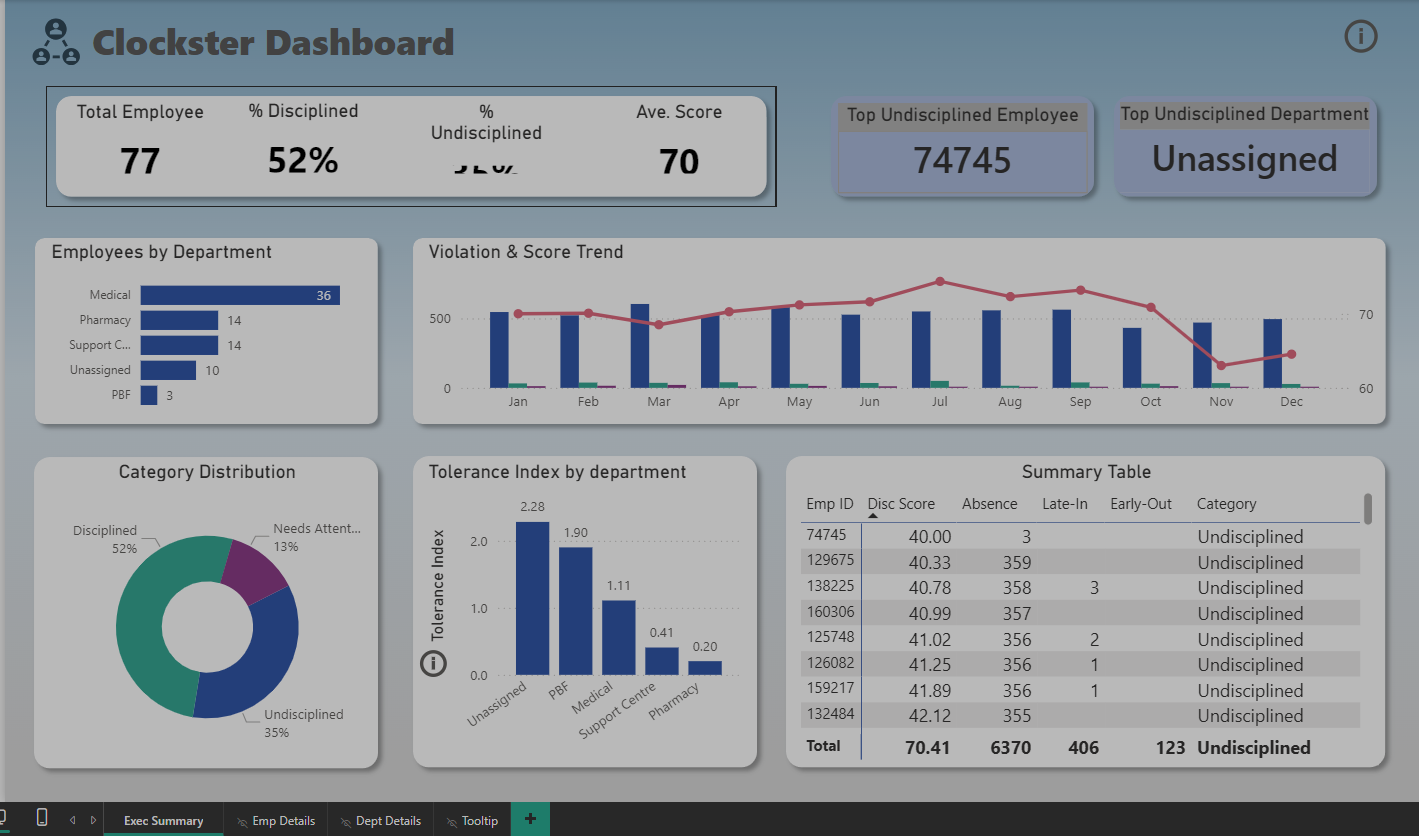

The page's visual inventory and layout, read from the dashboard file:
{"tool":"powerbi","page":{"name":"Exec Summary","canvas":[1280,720],"ordinal":0},"visuals":[{"type":"group","id":"g1","title":"Undisc Emp","box":[732.3,76.9,254,108.2],"z":0},{"type":"shape","box":[732.3,76.9,254,108.2],"z":0,"group":"g1"},{"type":"shape","box":[986.3,76.9,254,108.2],"z":0,"group":"g2"},{"type":"shape","title":"Shape KPI","box":[36.5,77.6,656,108.4],"z":0,"group":"g8"},{"type":"shape","title":"Shape Emp by Dept","box":[357.3,204.9,891.2,185],"z":0,"group":"g5"},{"type":"shape","title":"Shape Emp by Dept","box":[18,205,325.8,185],"z":0,"group":"g3"},{"type":"shape","title":"Shape Emp by Dept","box":[357.3,400.4,326.8,297.4],"z":0,"group":"g6"},{"type":"shape","title":"Shape Emp by Dept","box":[692.5,400.4,555.9,297.4],"z":0,"group":"g7"},{"type":"shape","title":"Shape Emp by Dept","box":[17,401,326.8,297.4],"z":0,"group":"g4"},{"type":"group","id":"g2","title":"Undisc Dept","box":[986.3,76.9,254,108.2],"z":1000},{"type":"cardVisual","title":"Total Employee","fields":{"Data":["Measure.Total_Emp"]},"box":[55.5,90.4,131.8,83.8],"z":1000,"group":"g8"},{"type":"cardVisual","title":"Top Undisciplined Department","fields":{"Data":["Min(users.department)"]},"box":[1001,91.4,224.2,81.4],"z":1000,"group":"g2"},{"type":"cardVisual","title":"Top Undisciplined Employee","fields":{"Data":["Min(schedules.user_id)"]},"box":[747.2,91.8,224.2,81.4],"z":1000,"group":"g1"},{"type":"barChart","title":"Employees by Department","fields":{"Y":["CountNonNull(users.user_id)"],"Category":["users.department"]},"box":[36.7,215.3,289.7,162.7],"z":1000,"group":"g3"},{"type":"lineClusteredColumnComboChart","title":"Violation & Score Trend","fields":{"Category":["Date_dim.Date Hierarchy.MonthName","Date_dim.Date Hierarchy.WeekdayName"],"Y":["Measure.Unexcused_Abs_Shifts_Count","Measure.Late_Shifts_Count","Measure.Early-Out_Shifts_Count"],"Y2":["Measure.Discipline_Score"]},"box":[375.1,215.3,858.3,162.7],"z":1000,"group":"g5"},{"type":"donutChart","title":"Category Distribution","fields":{"Y":["Measure.Undisciplined_Emp","Measure.Disciplined_Emp","Measure.Needs Attention"]},"box":[36.8,412.8,289.7,273.9],"z":1000,"group":"g4"},{"type":"clusteredColumnChart","title":"Tolerance Index by department","fields":{"Category":["users.department"],"Y":["Measure.Tolerance_Index"]},"box":[375.1,412.8,289.7,273.9],"z":1000,"group":"g6"},{"type":"pivotTable","title":"Summary Table","fields":{"Rows":["users.department","schedules.user_id"],"Values":["Measure.Discipline_Score","Measure.Unexcused_Abs_Shifts_Count","Measure.Late_Shifts_Count","Measure.Early-Out_Shifts_Count","Measure.Discipline_Category"]},"box":[709.4,412.8,523.9,273.9],"z":1000,"group":"g7"},{"type":"cardVisual","title":"% Disciplined","fields":{"Data":["Measure.% Discplined"]},"box":[201.4,89.4,131.8,83.8],"z":2000,"group":"g8"},{"type":"actionButton","title":"Button Info","box":[368,568.8,33,52.2],"z":2000,"group":"g6"},{"type":"actionButton","title":"Button Info","box":[1197.9,12.8,42.3,39.8],"z":3000},{"type":"cardVisual","title":"% Undisciplined","fields":{"Data":["Measure.% Undisciplined"]},"box":[366.1,90.4,131.8,83.8],"z":3000,"group":"g8"},{"type":"cardVisual","title":"Ave. Score","fields":{"Data":["Measure.Discipline_Score"]},"box":[539.3,90.4,131.8,83.8],"z":4000,"group":"g8"},{"type":"group","id":"g3","title":"Emp by Dept","box":[18,205,325.8,185],"z":5000},{"type":"group","id":"g4","title":"Cat Distribution","box":[17,401,326.8,297.4],"z":6000},{"type":"group","id":"g5","title":"Violation Trend","box":[357.3,204.9,891.2,185],"z":7000},{"type":"group","id":"g6","title":"Tolerance Index","box":[357.3,400.4,326.8,297.4],"z":8000},{"type":"group","id":"g7","title":"Matrix Table","box":[692.5,400.4,555.9,297.4],"z":9000},{"type":"group","id":"g8","title":"KPI","box":[36.5,77.6,656,108.4],"z":10000}]}

Visuals, with their boxes on the page's 1280x720 design canvas (x1, y1, x2, y2). These are canvas units, not pixel positions in the 1419x836 screenshot, which may show the page scaled, cropped or inside an application window:
"Undisc Emp" group: BBox(732, 77, 986, 185)
shape: BBox(732, 77, 986, 185)
shape: BBox(986, 77, 1240, 185)
"Shape KPI" shape: BBox(36, 78, 692, 186)
"Shape Emp by Dept" shape: BBox(357, 205, 1248, 390)
"Shape Emp by Dept" shape: BBox(18, 205, 344, 390)
"Shape Emp by Dept" shape: BBox(357, 400, 684, 698)
"Shape Emp by Dept" shape: BBox(692, 400, 1248, 698)
"Shape Emp by Dept" shape: BBox(17, 401, 344, 698)
"Undisc Dept" group: BBox(986, 77, 1240, 185)
"Total Employee" cardVisual: BBox(56, 90, 187, 174)
"Top Undisciplined Department" cardVisual: BBox(1001, 91, 1225, 173)
"Top Undisciplined Employee" cardVisual: BBox(747, 92, 971, 173)
"Employees by Department" barChart: BBox(37, 215, 326, 378)
"Violation & Score Trend" lineClusteredColumnComboChart: BBox(375, 215, 1233, 378)
"Category Distribution" donutChart: BBox(37, 413, 326, 687)
"Tolerance Index by department" clusteredColumnChart: BBox(375, 413, 665, 687)
"Summary Table" pivotTable: BBox(709, 413, 1233, 687)
"% Disciplined" cardVisual: BBox(201, 89, 333, 173)
"Button Info" actionButton: BBox(368, 569, 401, 621)
"Button Info" actionButton: BBox(1198, 13, 1240, 53)
"% Undisciplined" cardVisual: BBox(366, 90, 498, 174)
"Ave. Score" cardVisual: BBox(539, 90, 671, 174)
"Emp by Dept" group: BBox(18, 205, 344, 390)
"Cat Distribution" group: BBox(17, 401, 344, 698)
"Violation Trend" group: BBox(357, 205, 1248, 390)
"Tolerance Index" group: BBox(357, 400, 684, 698)
"Matrix Table" group: BBox(692, 400, 1248, 698)
"KPI" group: BBox(36, 78, 692, 186)
